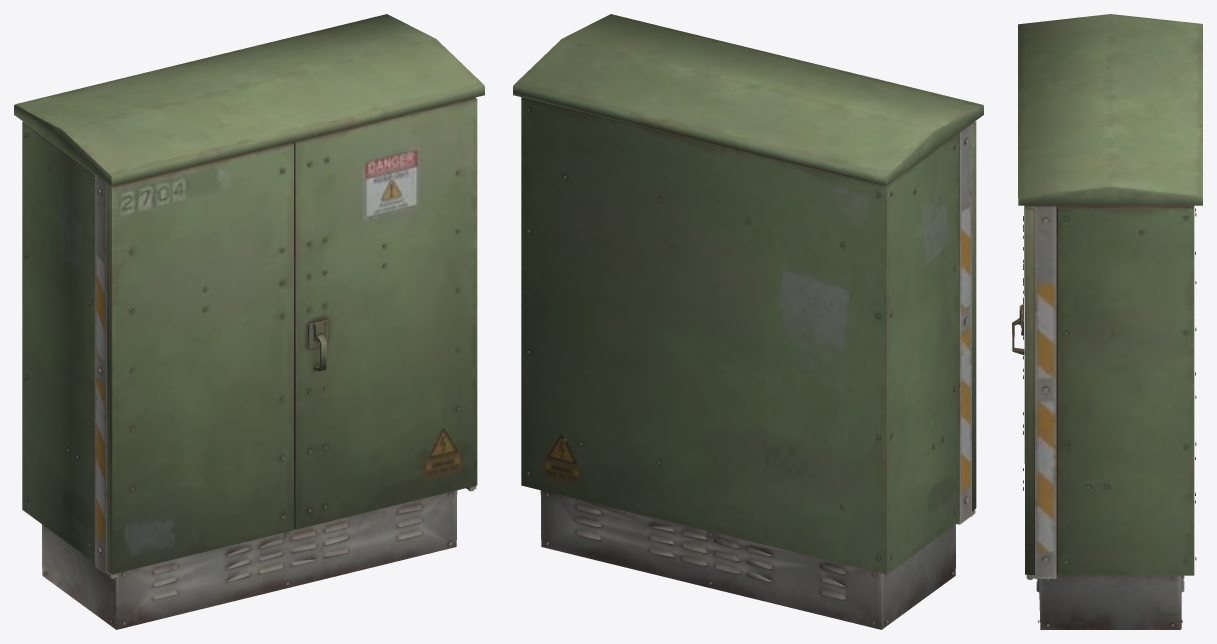
The model's file is electrical_box.glb.
3 views of the same model, side by side, from view 1: azimuth 30°, elevation 25°; view 2: azimuth 150°, elevation 25°; view 3: azimuth 270°, elevation 25° (orthographic). The views are drawn at different scales.
Parts seen in each view (by area): view 1: electrical_box; view 2: electrical_box; view 3: electrical_box.
Part boxes in pixels (x1,y1,x2,y2): electrical_box: (14, 14, 484, 629); electrical_box: (513, 14, 983, 629); electrical_box: (1012, 14, 1202, 629).
Size of the model in its own units: 0.9165 by 1.12 by 0.4287.
Materials: 1 (1 with a texture image).
